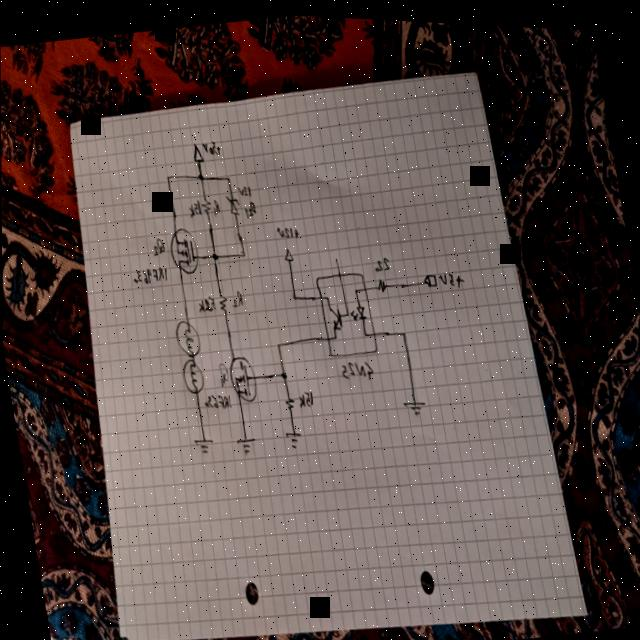diode: (225, 189, 242, 215)
ground: (402, 393, 427, 415), (235, 430, 257, 454), (192, 432, 214, 454), (285, 424, 304, 447)
junction: (281, 366, 288, 378), (198, 170, 205, 181), (212, 248, 219, 259), (276, 337, 282, 347), (401, 325, 407, 334), (292, 289, 298, 298), (242, 247, 247, 257), (166, 171, 171, 180), (226, 171, 231, 179)
resistor: (217, 289, 230, 311), (375, 272, 388, 291), (200, 194, 213, 213), (284, 391, 296, 407)
source: (190, 137, 205, 162), (422, 265, 439, 287), (282, 241, 297, 264)
terminal: (334, 251, 339, 261)
text: (130, 259, 170, 287), (339, 353, 375, 379), (438, 263, 467, 288), (203, 388, 231, 411), (276, 219, 301, 239), (197, 291, 217, 311), (202, 136, 222, 156), (297, 385, 316, 406), (217, 358, 230, 386), (150, 234, 165, 256), (188, 196, 203, 217), (243, 196, 258, 217), (230, 286, 245, 307), (374, 252, 391, 269), (236, 180, 253, 197), (212, 195, 223, 215)
transistor: (166, 222, 202, 275), (226, 351, 260, 402)
